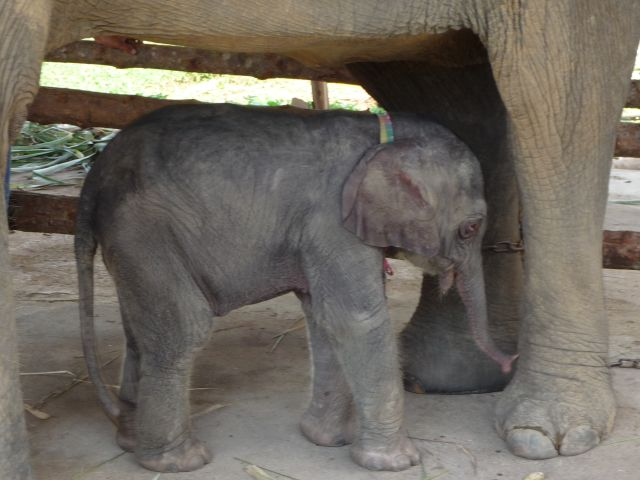elephant: (69, 98, 526, 475)
